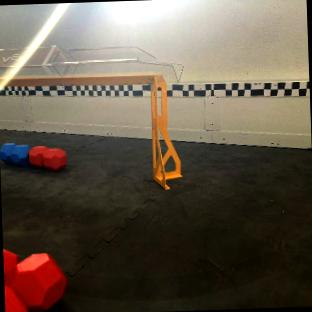V5_BLUE: (0, 143, 30, 166)
V5_RED: (3, 250, 66, 312), (29, 146, 66, 171)
